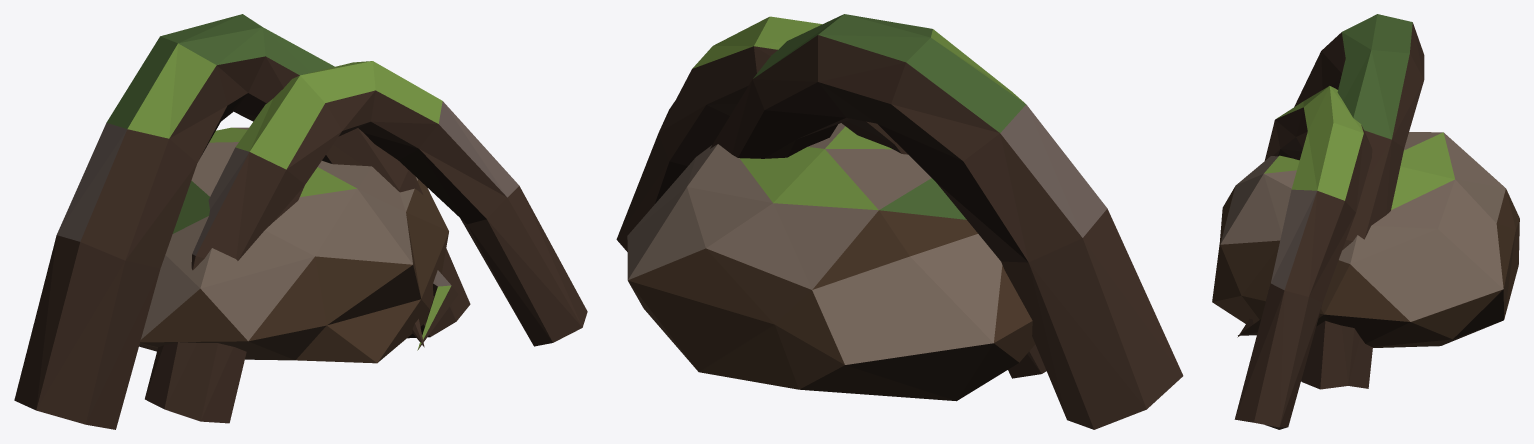
The model's file is SM_Rim_Root_B.fbx.
The picture shows the model from 3 angles, left to right: view 1: azimuth 30°, elevation 25°; view 2: azimuth 150°, elevation 25°; view 3: azimuth 270°, elevation 25°; orthographic projection. The views are drawn at different scales.
Visible parts, largest first — view 1: SM_Rim_Root_B; view 2: SM_Rim_Root_B; view 3: SM_Rim_Root_B.
Boxes of the visible parts, x1,y1,x2,y2 form: SM_Rim_Root_B: (14,14,587,429); SM_Rim_Root_B: (616,14,1183,429); SM_Rim_Root_B: (1212,14,1519,429).
Bounding box in the file's own units: 5.56 × 3.37 × 3.22.
